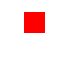square: (24, 12, 44, 32)
